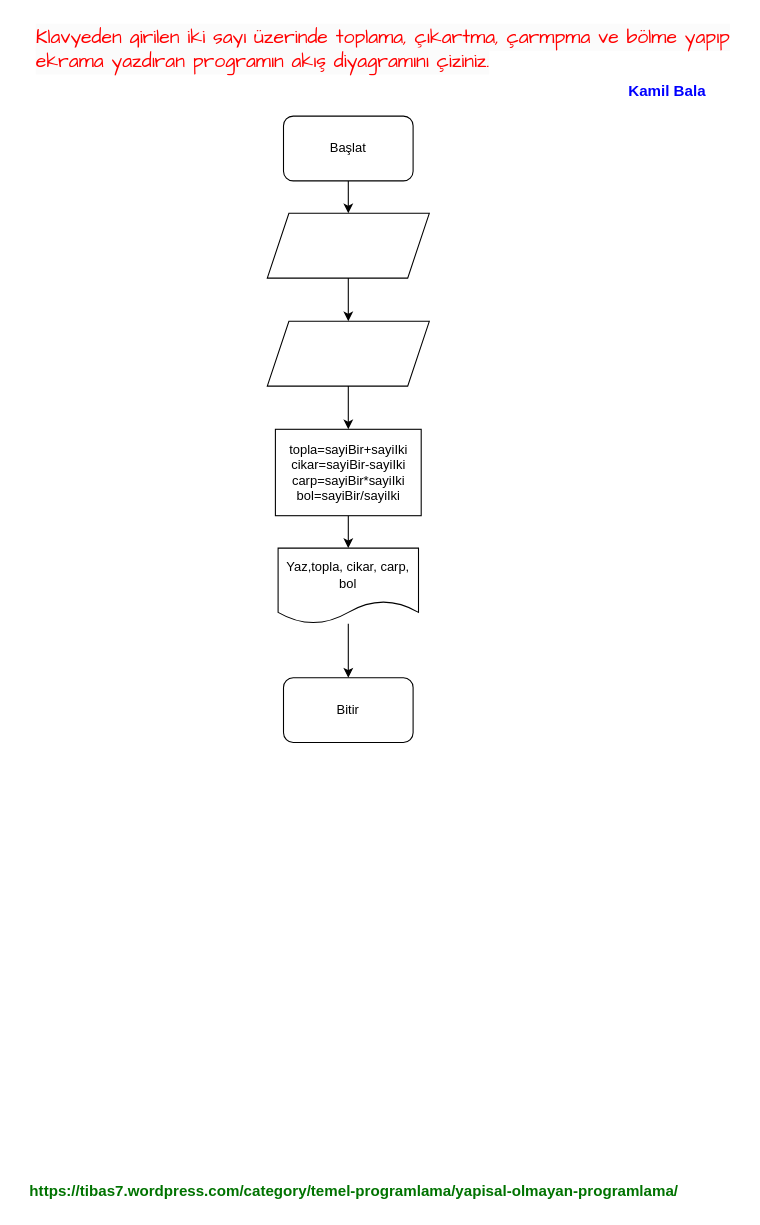
This 760x1225 diagram has some shape labels left out. The shapes that lost their labels are listed below. From the top down, each one's centre as x and y in pixels, then its label:
(x=347, y=245): "Bir sayi giriniz", sayiBir
(x=347, y=353): "Bir sayi giriniz", sayiIki
